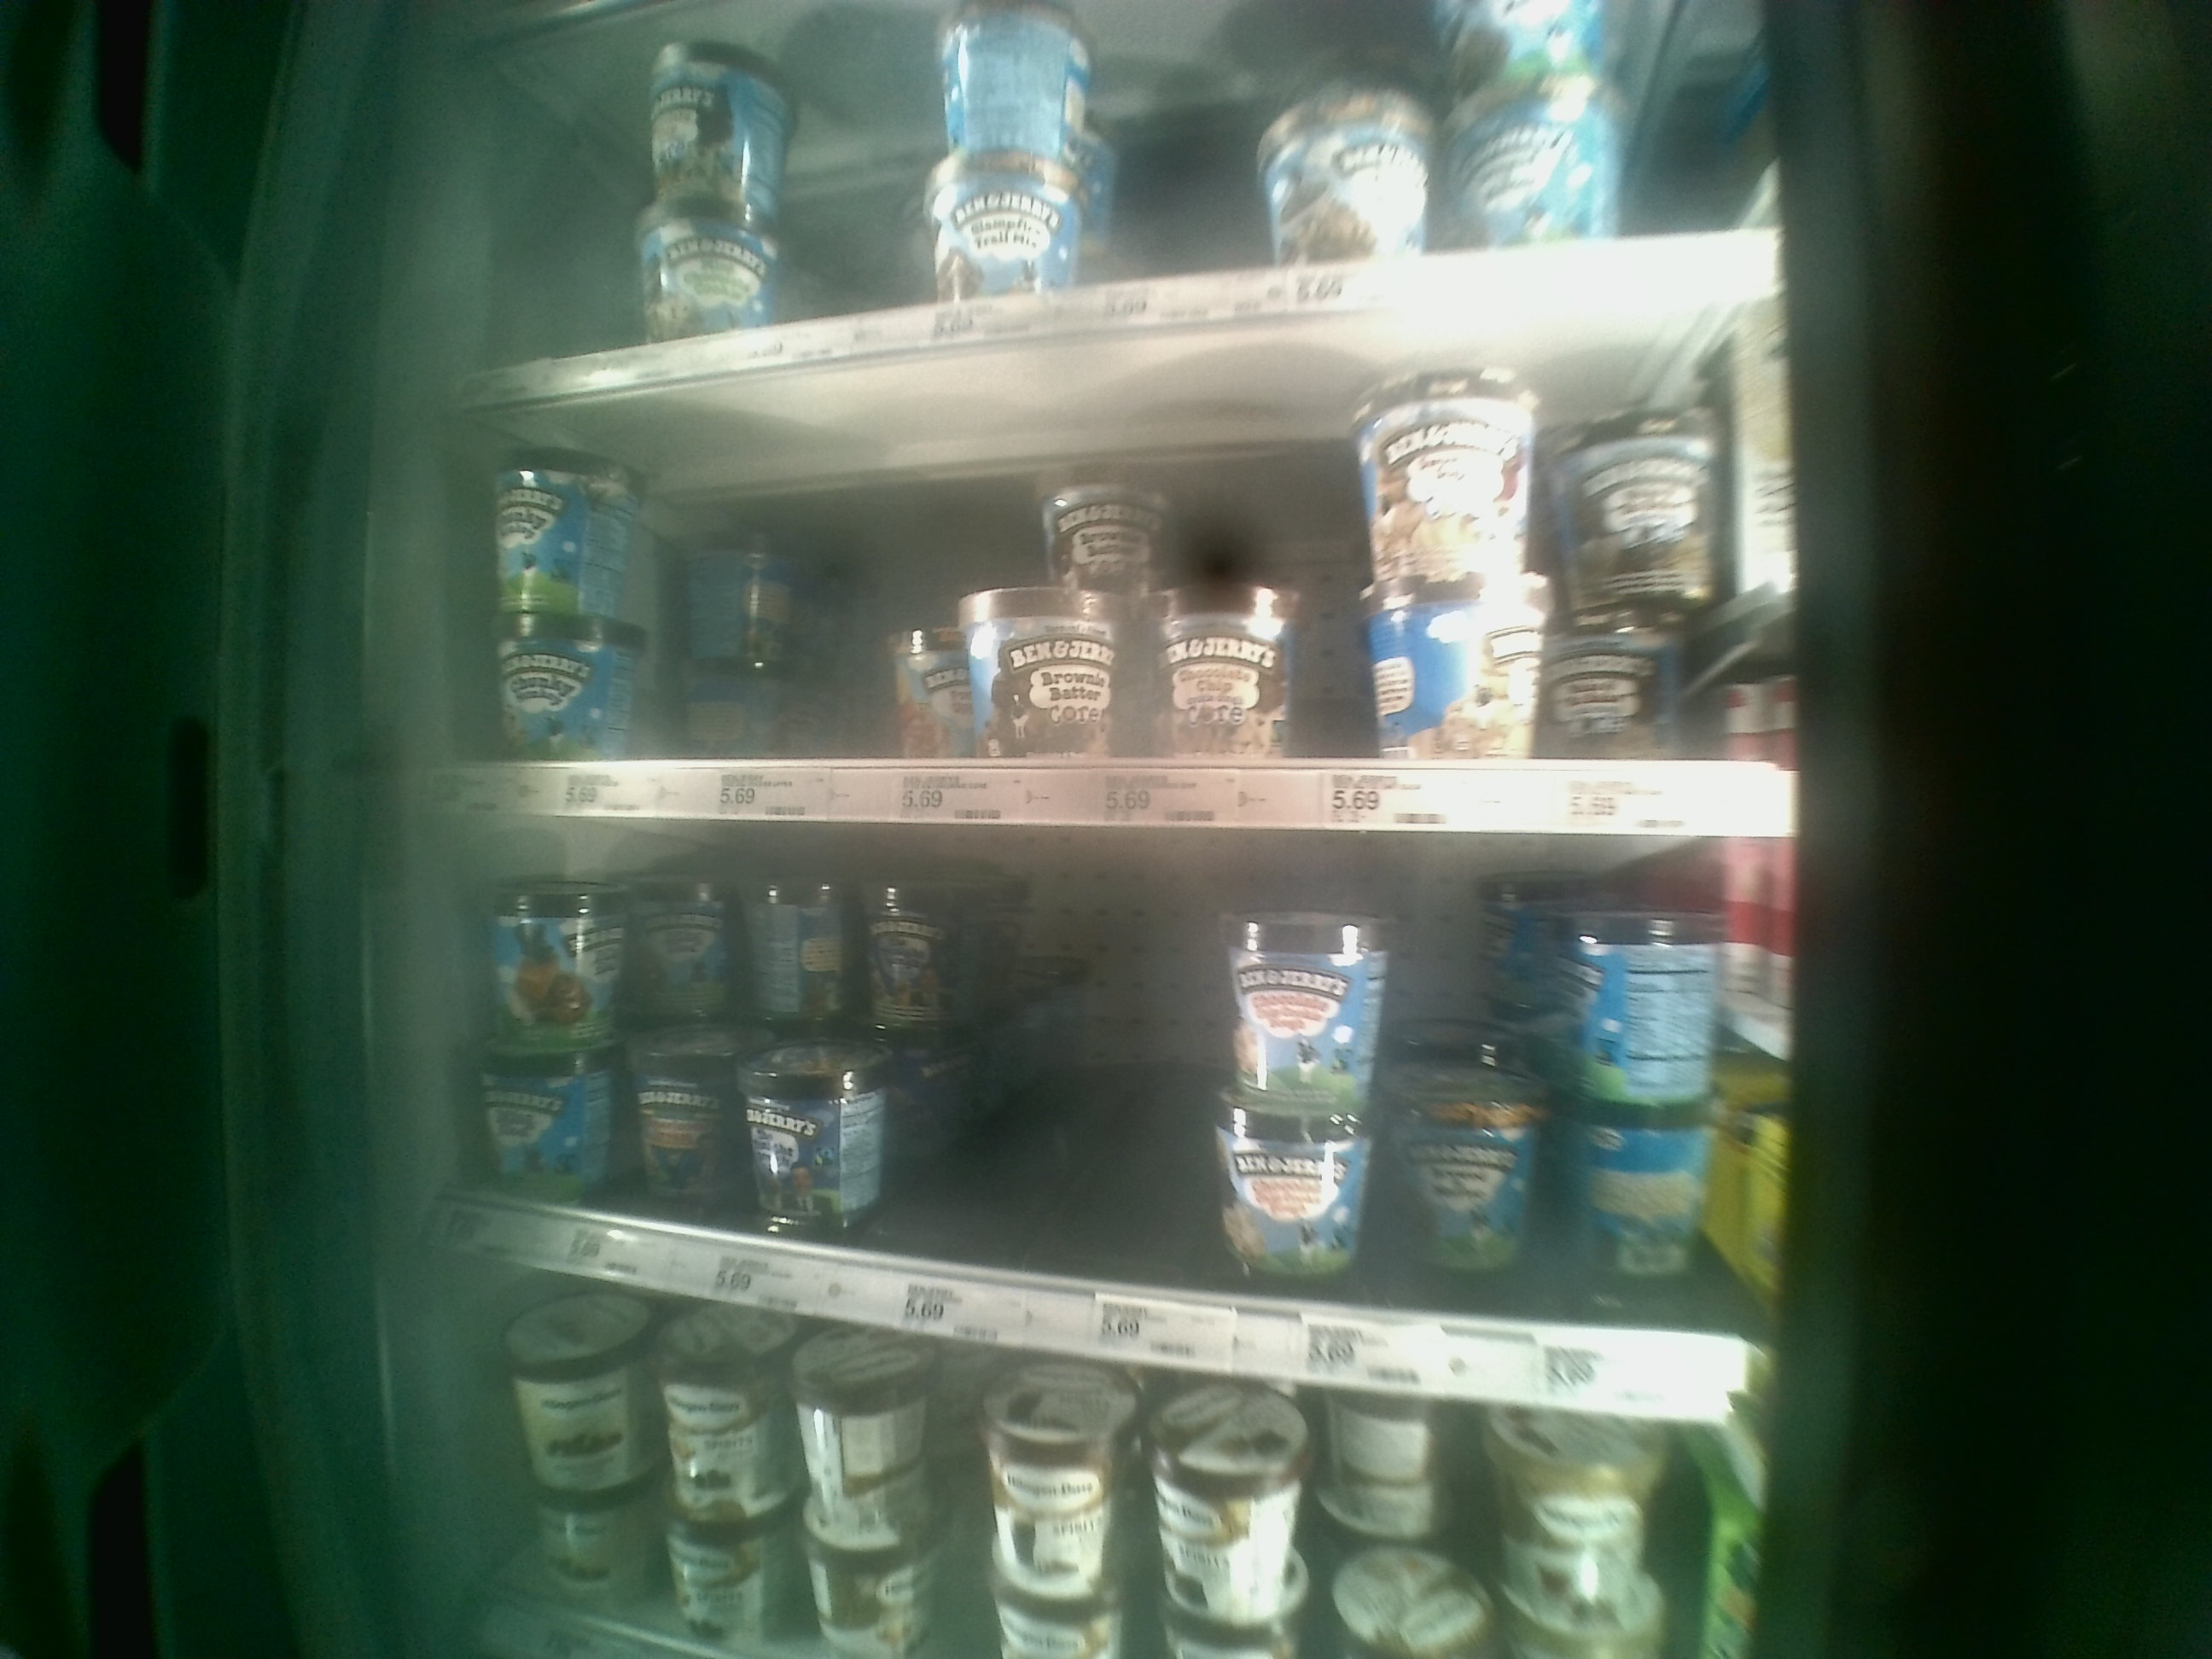shelf: (460, 823, 1789, 1427), (460, 296, 1794, 840)
